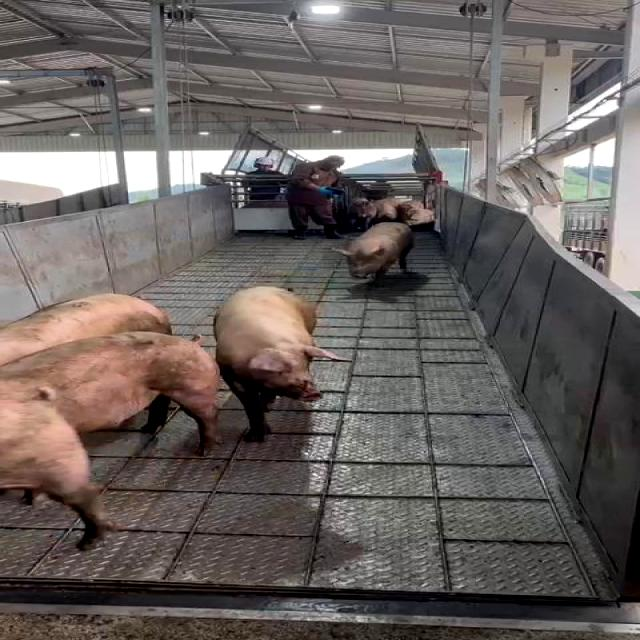pig: (0, 332, 220, 455), (213, 286, 346, 441), (0, 400, 112, 549), (0, 294, 172, 364), (337, 222, 415, 279)
